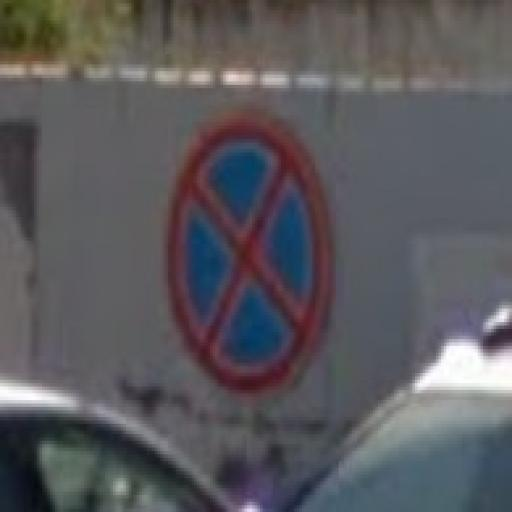traffic_sign: (167, 117, 335, 395)
